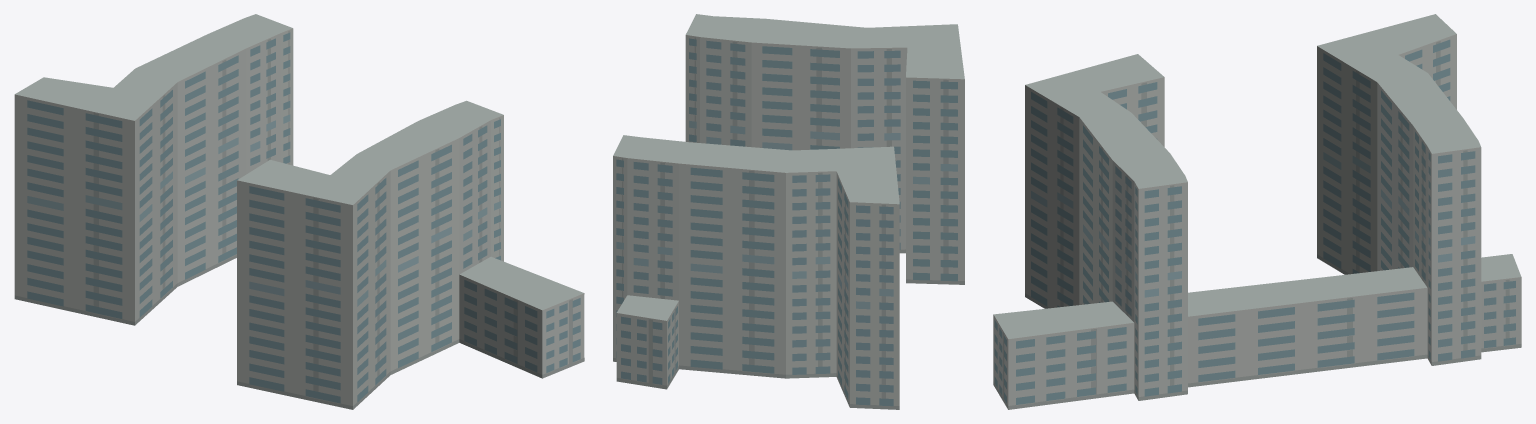
File: residential-1d8f67e3-b9e5-45b2-9335-2e8c3214ef80.glb
3 renders of one model, left to right at view 1: azimuth 30°, elevation 25°; view 2: azimuth 150°, elevation 25°; view 3: azimuth 270°, elevation 25°, orthographic. The views are drawn at different scales.
Parts seen in each view (by area): view 1: residential-1d8f67e3-b9e5-45b2-9335-2e8c3214ef80.tmp; view 2: residential-1d8f67e3-b9e5-45b2-9335-2e8c3214ef80.tmp; view 3: residential-1d8f67e3-b9e5-45b2-9335-2e8c3214ef80.tmp.
Part boxes in pixels (bbox=[...]): residential-1d8f67e3-b9e5-45b2-9335-2e8c3214ef80.tmp: bbox=[14, 14, 584, 409]; residential-1d8f67e3-b9e5-45b2-9335-2e8c3214ef80.tmp: bbox=[613, 14, 964, 409]; residential-1d8f67e3-b9e5-45b2-9335-2e8c3214ef80.tmp: bbox=[993, 14, 1521, 409].
Bounding box in the file's own units: 85.05 × 45.75 × 103.
